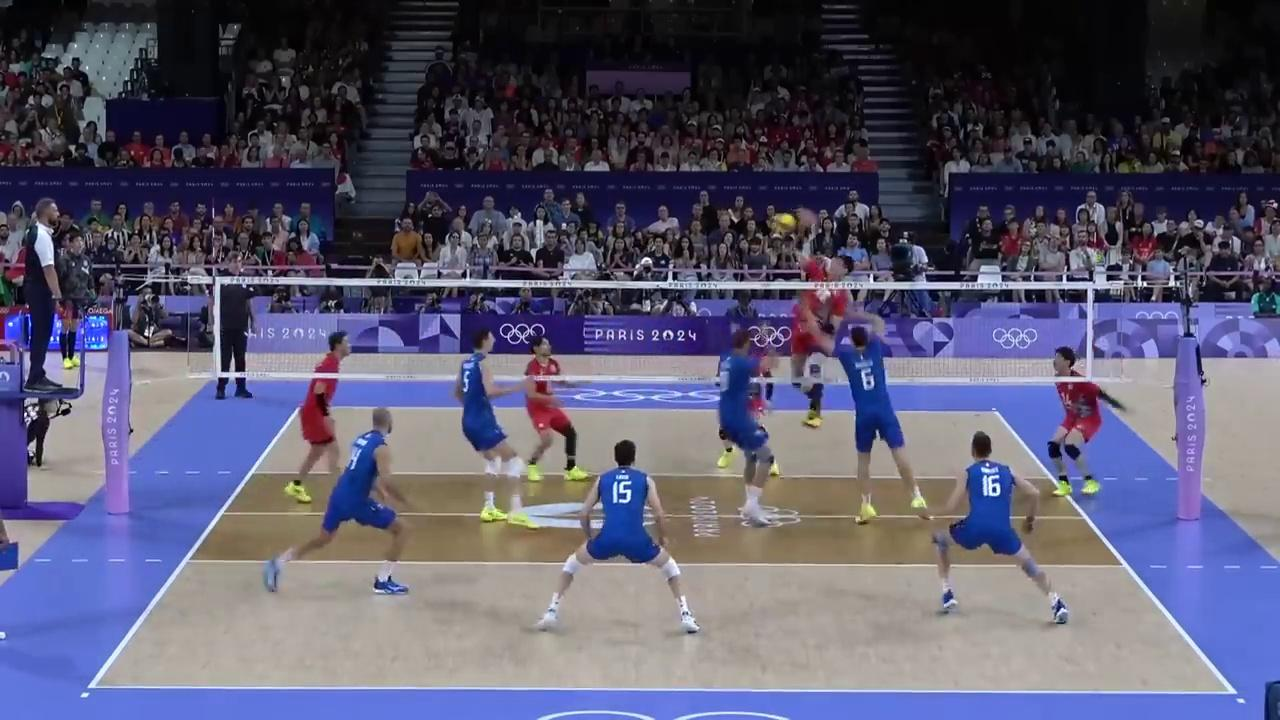ball: (774, 211, 794, 231)
